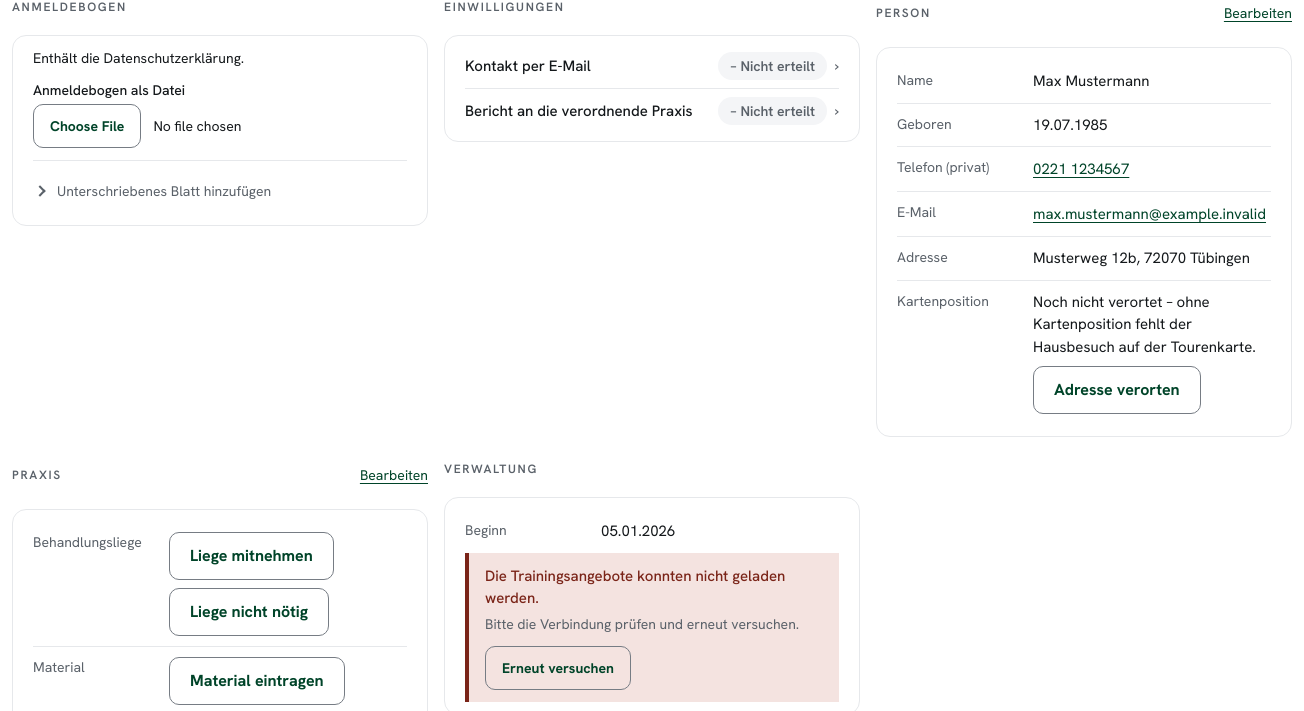
Test case: Stammdaten der Akte › Behandlungsliege (UX-003a) › meldet einen Fehler als Text
Click the button "Liege mitnehmen" at x=251, y=556, box x1=169 y1=532 x2=334 y2=580
(page scrolled)
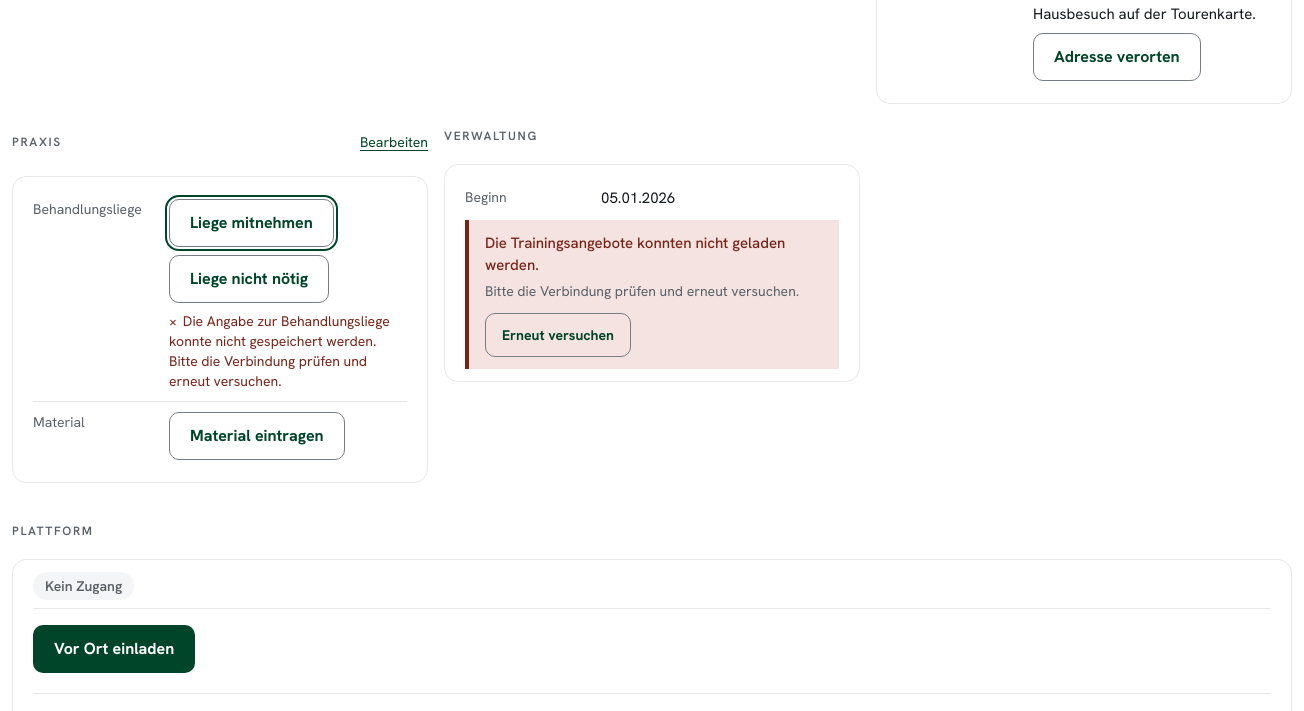
Now the 2nd message is shown, box x1=169 y1=311 x2=407 y2=391
